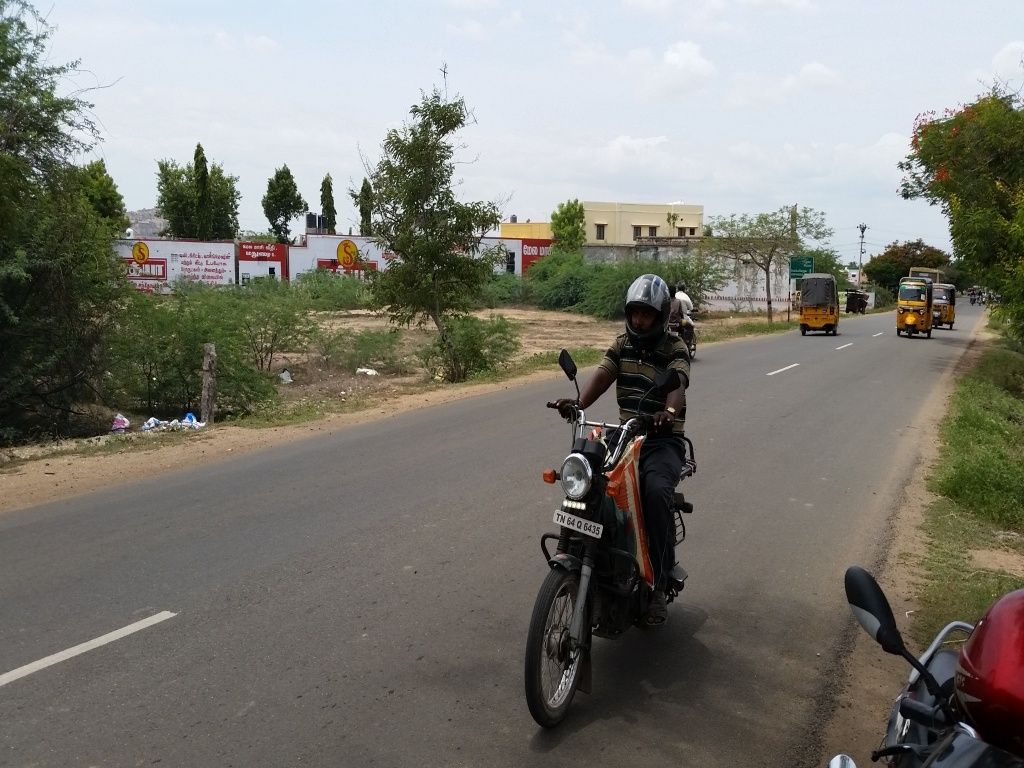biker: (510, 238, 727, 740), (668, 264, 699, 363)
helmet: (617, 268, 671, 353)
nohelmet: (666, 280, 680, 303), (676, 275, 689, 296)
